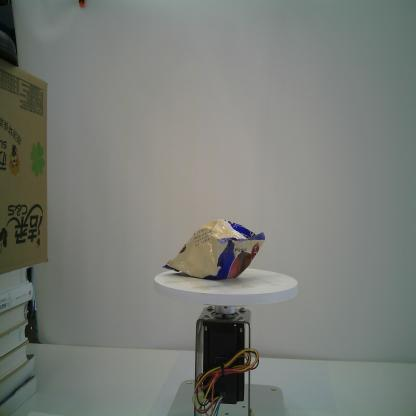Dessert: (161, 219, 266, 281)
